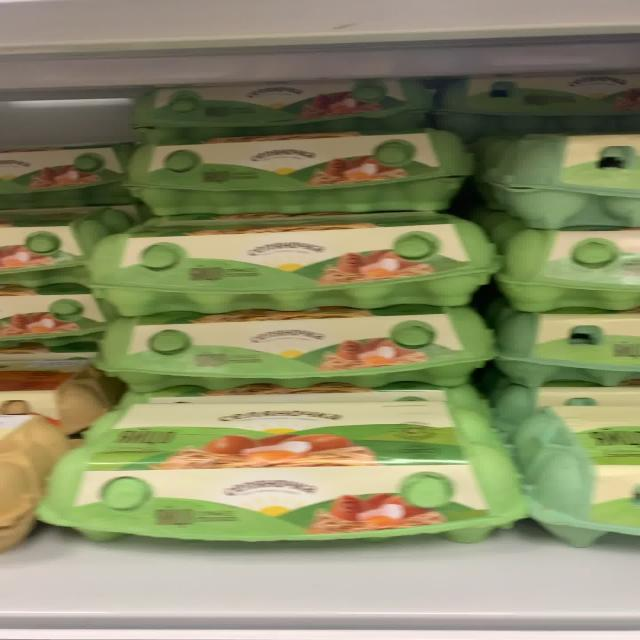egg box: (21, 392, 533, 563), (74, 216, 507, 309), (110, 125, 481, 218), (81, 311, 502, 389), (126, 64, 442, 131)
